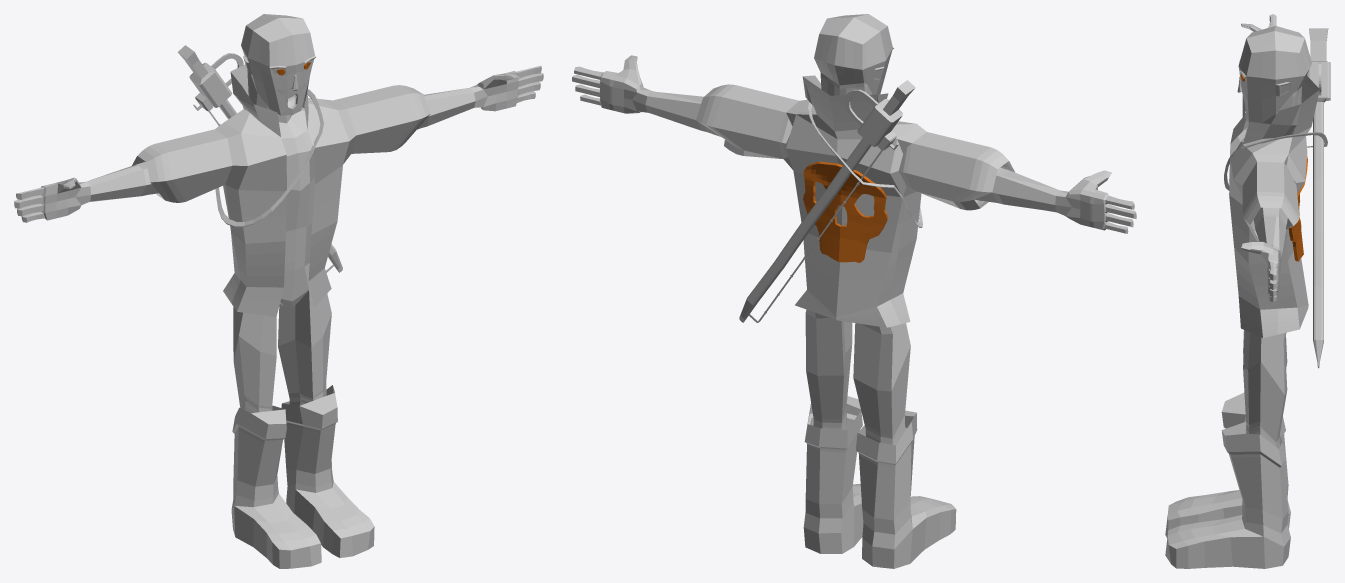
File: KidAttemptFive.obj
3 renders of one model, left to right at view 1: azimuth 30°, elevation 25°; view 2: azimuth 150°, elevation 25°; view 3: azimuth 270°, elevation 25°, orthographic. The views are drawn at different scales.
Visible parts, largest first — view 1: Head, Shirt, Boots, FishingRod, SheathWrap; view 2: Shirt, Head, Boots, FishingRod, Skull; view 3: Shirt, Boots, Head, FishingRod, Skull, SheathWrap.
Part boxes in pixels (box(x1,y1,x2,y2)): Head: box(14, 14, 543, 413); Shirt: box(132, 64, 430, 316); Boots: box(231, 385, 374, 568); FishingRod: box(177, 45, 342, 272); SheathWrap: box(215, 89, 323, 227); Shirt: box(696, 75, 1014, 327); Head: box(572, 14, 1136, 566); Boots: box(803, 396, 956, 568); FishingRod: box(739, 80, 915, 322); Skull: box(803, 161, 887, 262); Shirt: box(1229, 75, 1319, 337); Boots: box(1165, 393, 1290, 568); Head: box(1236, 14, 1311, 557); FishingRod: box(1307, 28, 1330, 368); Skull: box(1288, 155, 1307, 261); SheathWrap: box(1224, 132, 1327, 190).
Size of the model in its own units: 1.94 by 1.76 by 0.5143.
